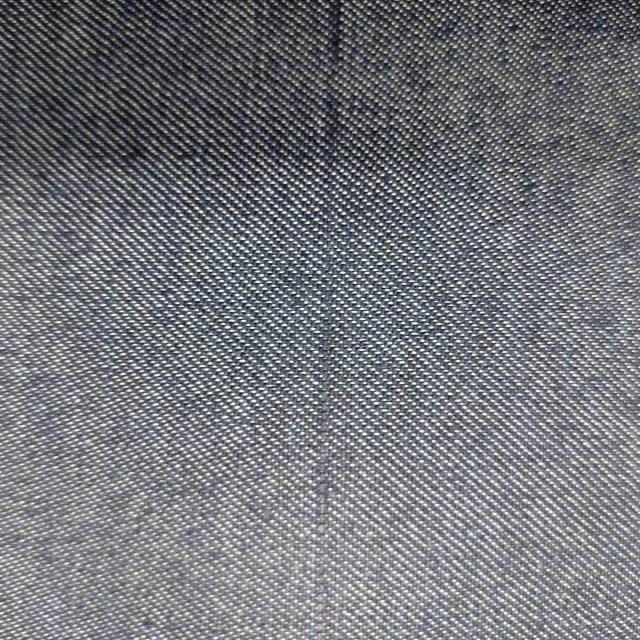Line: (307, 0, 355, 640)
